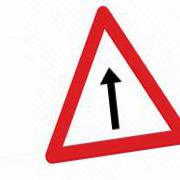forward: (44, 5, 180, 164)
